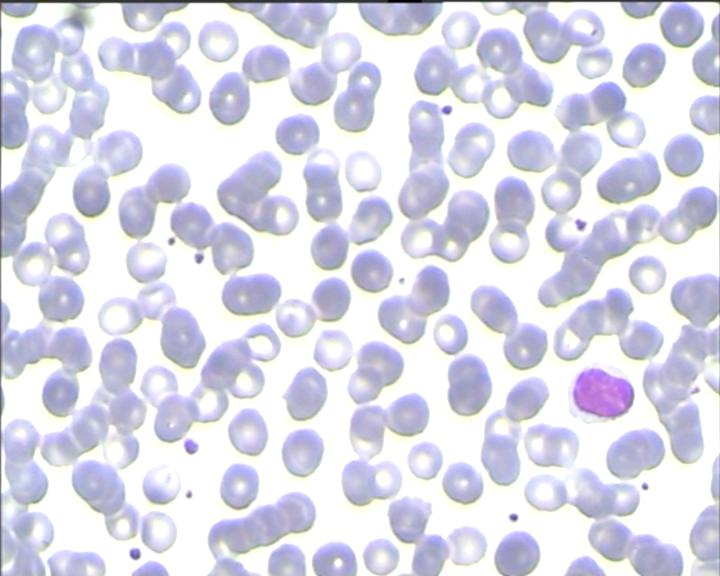lymp: (567, 361, 634, 428)
